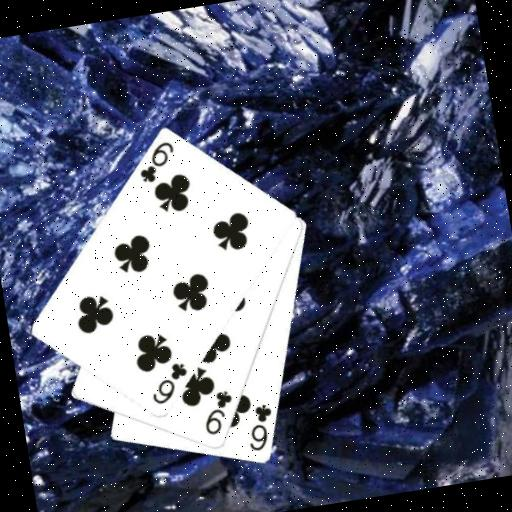6C: (144, 358, 194, 408), (132, 137, 180, 186), (240, 400, 279, 454)
9C: (197, 386, 240, 438)
